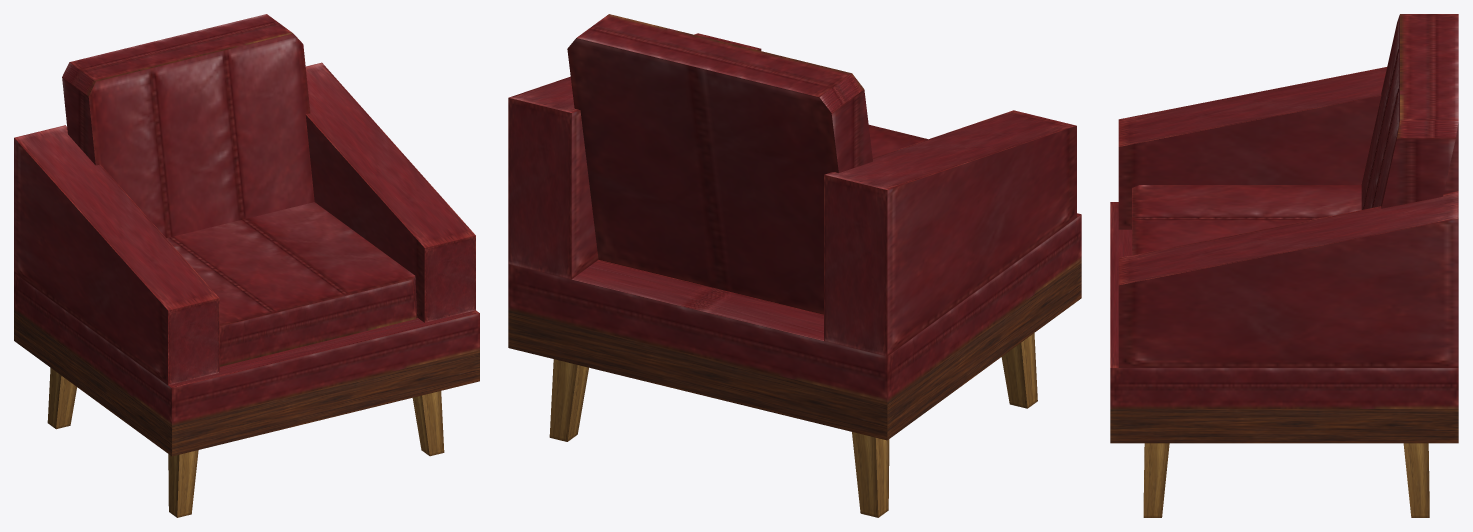
The model's file is casino-lounge-chair.obj.
3 renders of one model, left to right at view 1: azimuth 30°, elevation 25°; view 2: azimuth 150°, elevation 25°; view 3: azimuth 270°, elevation 25°, orthographic. The views are drawn at different scales.
Visible parts, largest first — view 1: casino-lounge-chair; view 2: casino-lounge-chair; view 3: casino-lounge-chair.
Part boxes in pixels (left/top/right/bottom): casino-lounge-chair: left=14, top=14, right=479, bottom=517; casino-lounge-chair: left=508, top=14, right=1081, bottom=517; casino-lounge-chair: left=1110, top=14, right=1458, bottom=517.
Size of the model in its own units: 0.935 by 0.995 by 0.83.
1 material, 1 textured.
